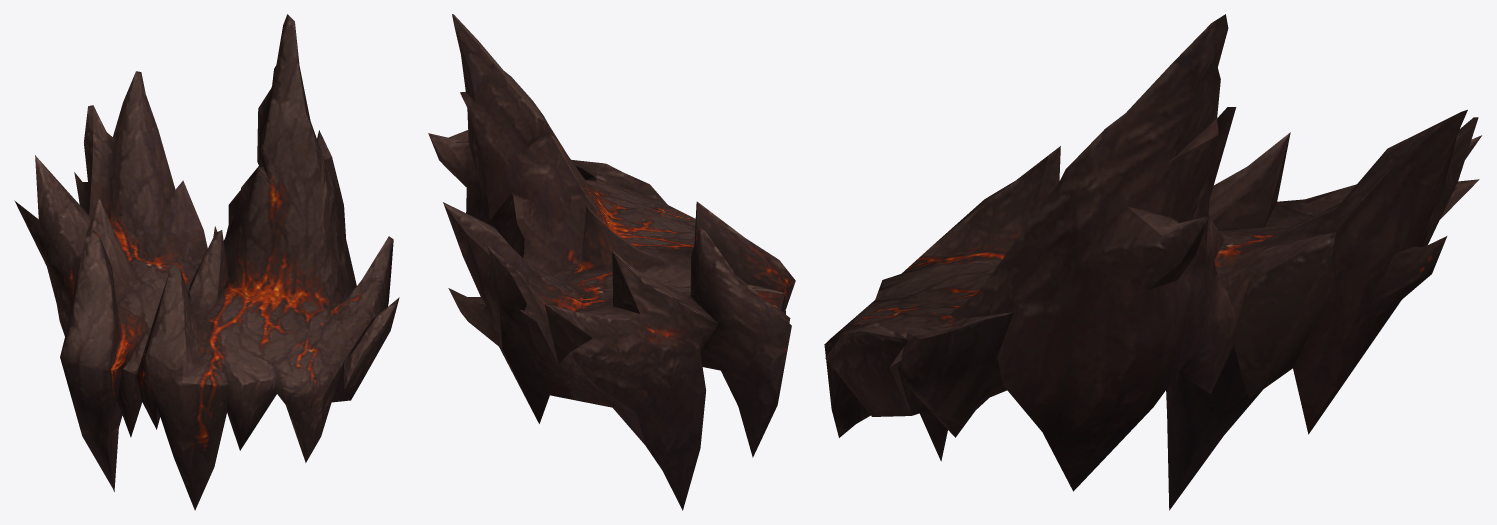
Rendered from hs_shan_12.FBX.
3 views of the same model, side by side, from view 1: azimuth 30°, elevation 25°; view 2: azimuth 150°, elevation 25°; view 3: azimuth 270°, elevation 25° (orthographic). The views are drawn at different scales.
Visible parts, largest first — view 1: hs_shan_12; view 2: hs_shan_12; view 3: hs_shan_12.
Part boxes in pixels (left/top/right/bottom): hs_shan_12: left=14, top=14, right=399, bottom=510; hs_shan_12: left=428, top=14, right=795, bottom=510; hs_shan_12: left=824, top=14, right=1481, bottom=510.
Bounding box in the file's own units: 165 × 218 × 203.
